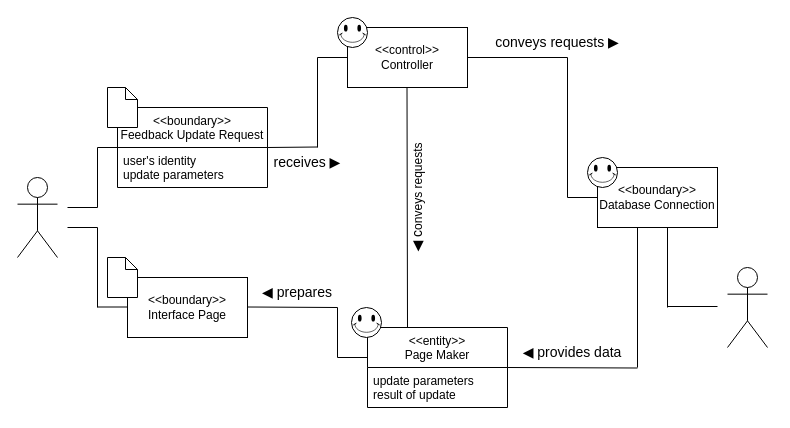
Image size: 790x428. Some labels were removed from this diagram. Each missing label, with the centre of its shape:
"Database" goes at (x=747, y=307).
"Guest" goes at (x=37, y=217).
